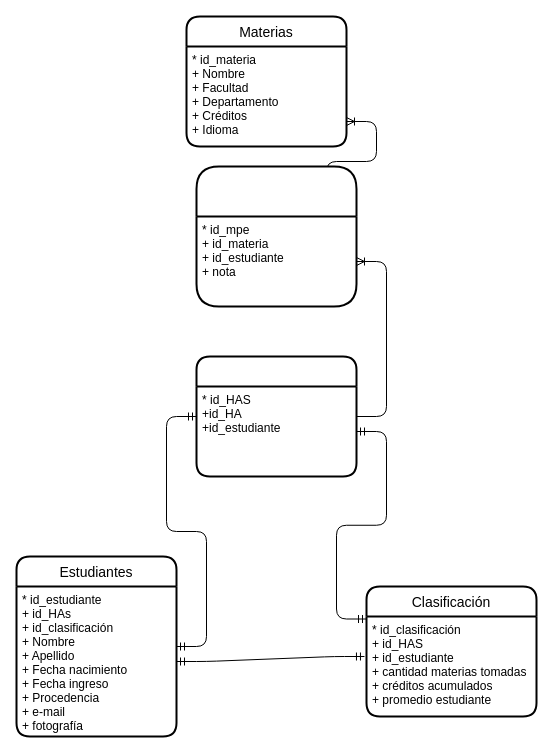
This 553x753 diagram has some shape labels left out. The shapes that lost their labels are listed below. From the top down, each one's box as (x1, y1, x2, y2) in pixels, then its label:
(195, 165, 357, 307): Historia academica / Nota por materia
(195, 355, 357, 477): HAs por estudiante
